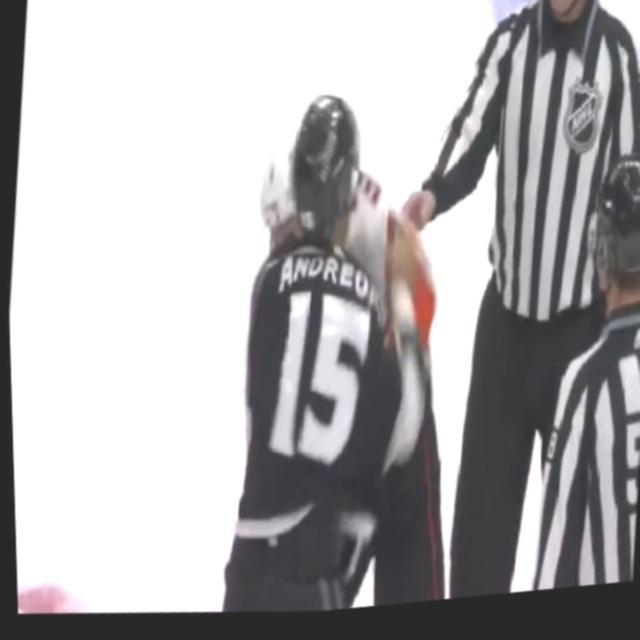fight: (209, 80, 470, 624)
